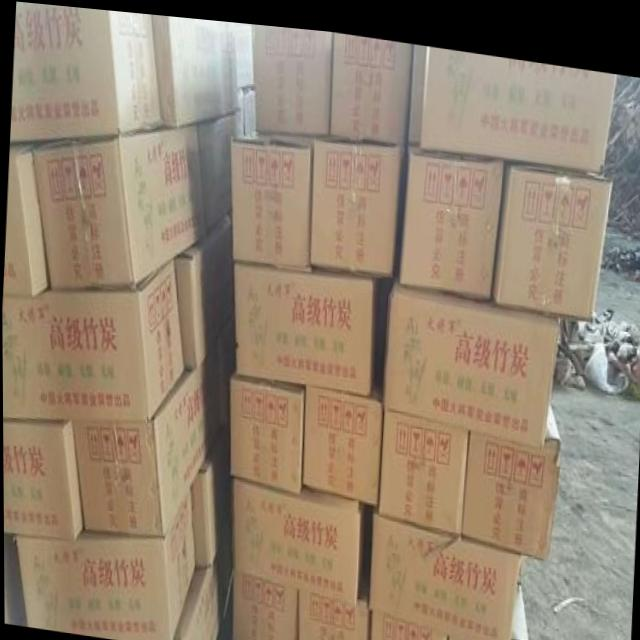box: (72, 335, 229, 539), (2, 257, 184, 422), (30, 119, 206, 286), (384, 275, 561, 437), (14, 483, 196, 640), (421, 40, 617, 162), (10, 1, 164, 144), (367, 506, 518, 640), (488, 148, 612, 306), (234, 258, 377, 382), (231, 471, 372, 596), (398, 133, 503, 291), (460, 391, 559, 546), (312, 134, 399, 272), (379, 397, 469, 524), (230, 132, 312, 264), (153, 12, 241, 126), (172, 208, 236, 364), (302, 372, 381, 497), (230, 365, 306, 491), (2, 419, 83, 535), (330, 26, 413, 139), (252, 19, 333, 127), (3, 140, 49, 297), (173, 527, 231, 640), (195, 105, 247, 229), (295, 566, 371, 640), (190, 426, 231, 563), (231, 563, 297, 640), (370, 602, 448, 640), (508, 574, 528, 640)
